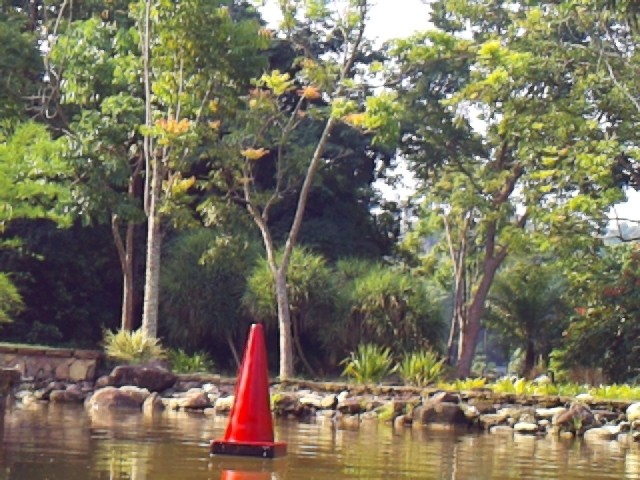obstacle: (210, 323, 287, 459)
